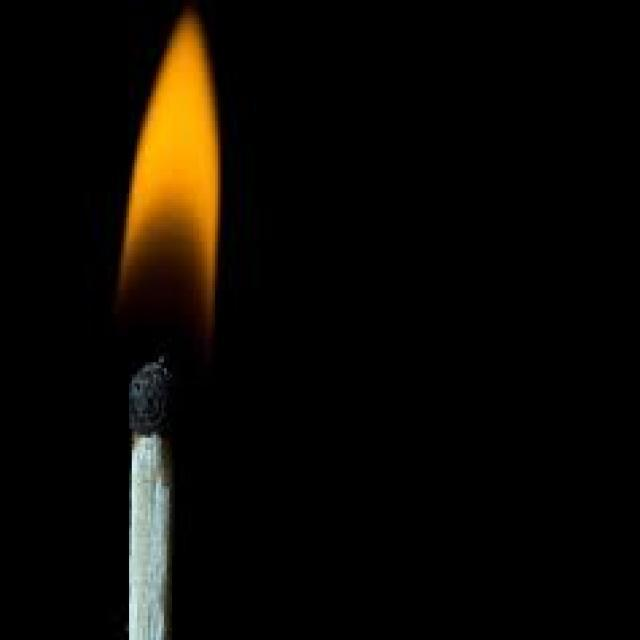fire: (110, 7, 230, 365)
